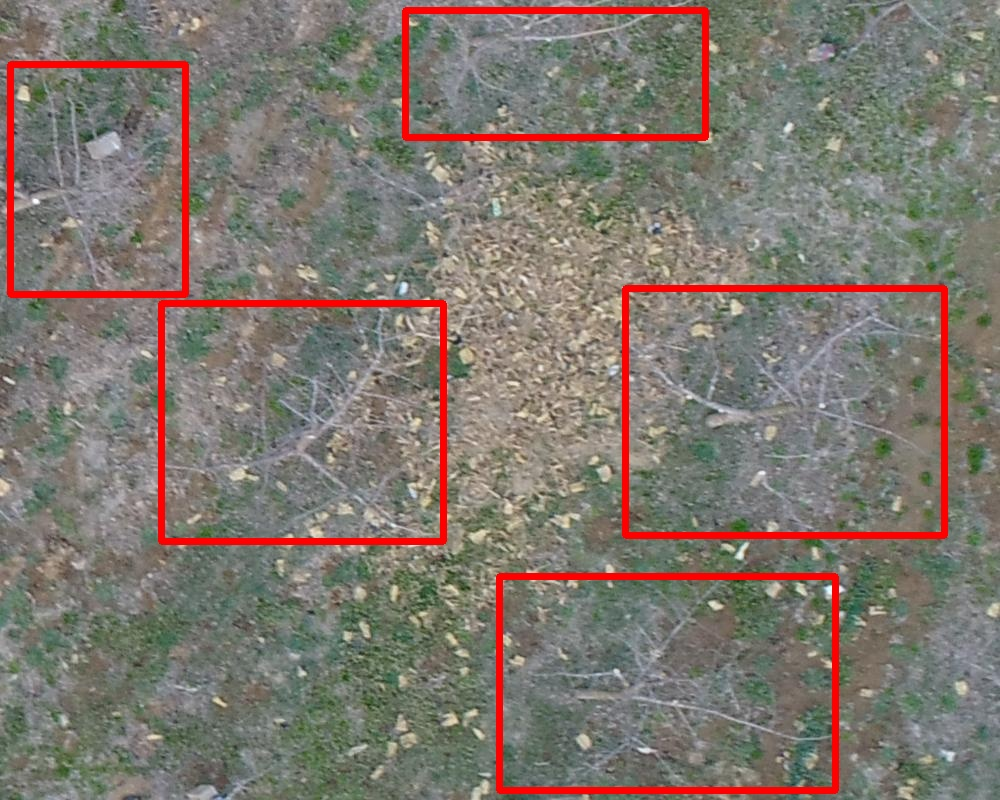apple: (625, 288, 944, 535), (499, 576, 835, 790), (161, 303, 443, 541), (10, 64, 185, 294), (405, 10, 705, 137)
